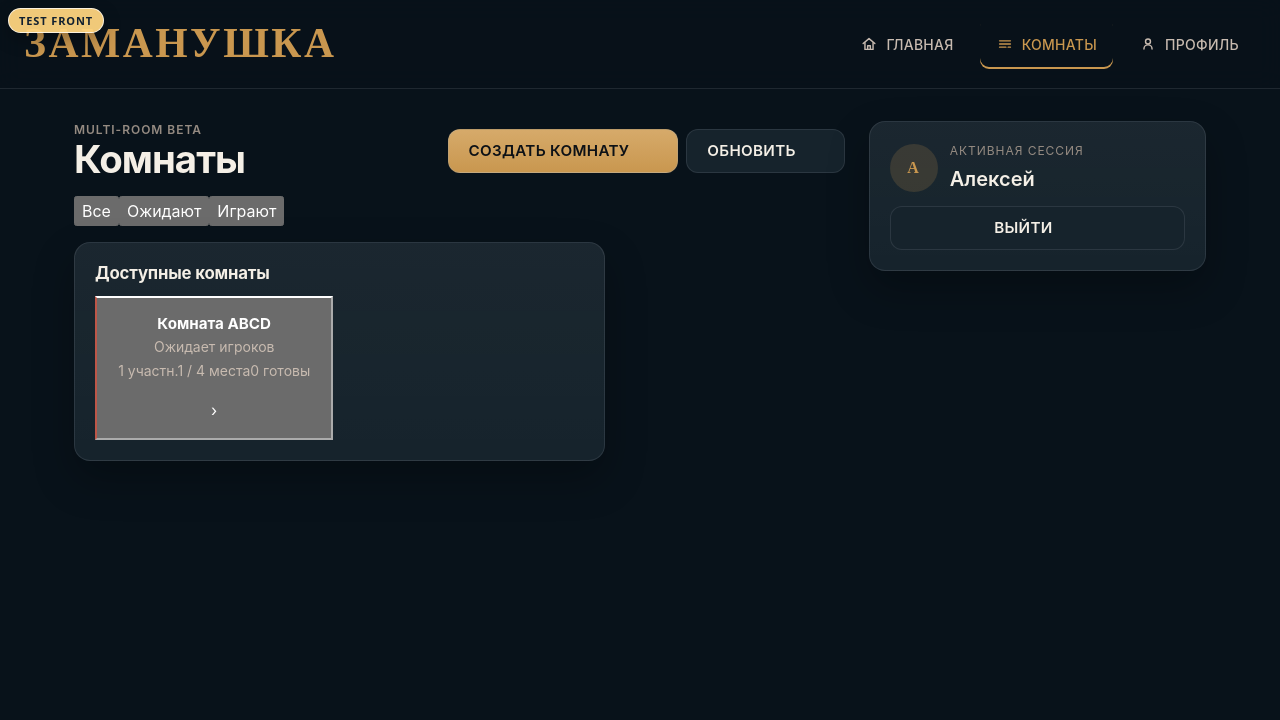
Test case: playable beta room flow › renders the room list on #/rooms and opens a room through the canonical route
Check: the heading "Комнаты" is shown, box left=74, top=139, right=245, bottom=180
Check: the text "Комната ABCD" is shown, box left=157, top=314, right=271, bottom=333
Click the button with aria-label "Открыть комнату ABCD".
click(214, 368)  # box left=95, top=296, right=333, bottom=440
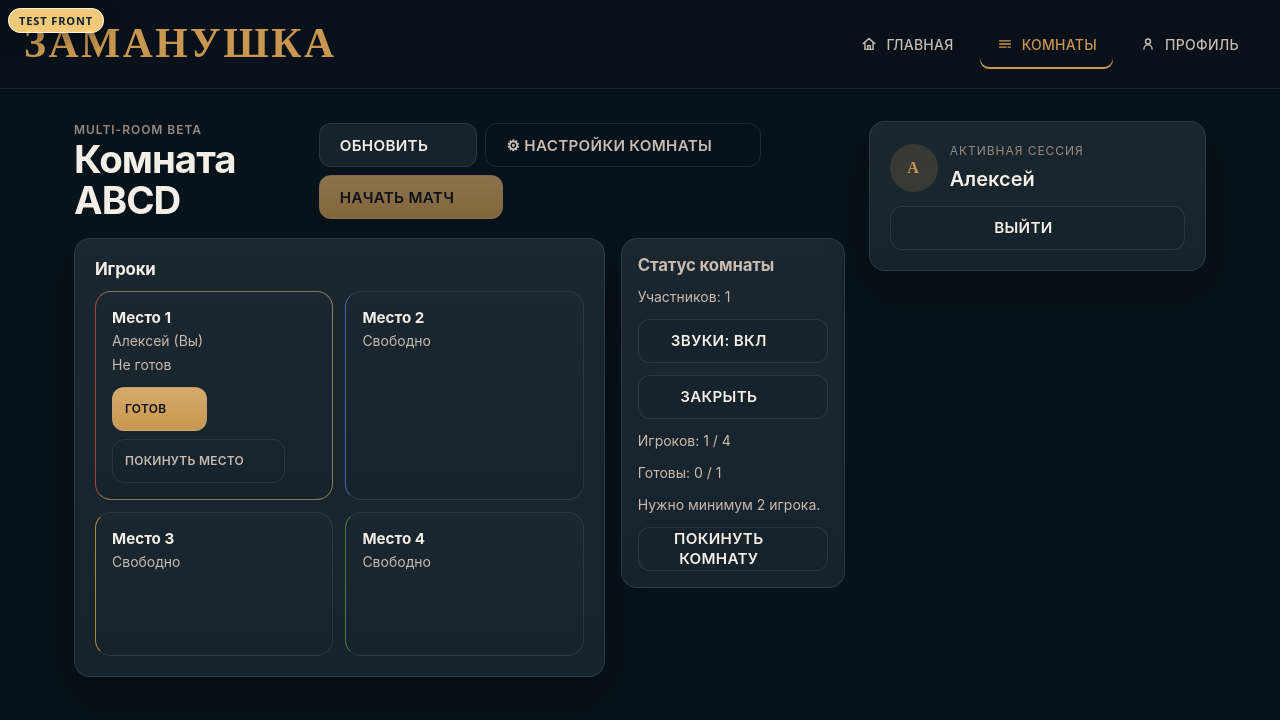
Check: the heading "Комната ABCD" is shown, box left=74, top=136, right=236, bottom=224
